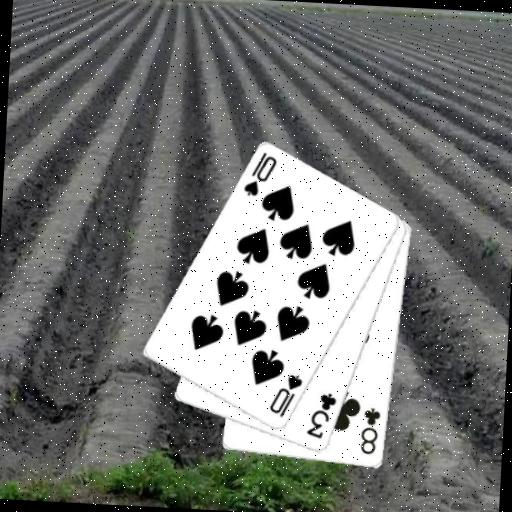10S: (240, 148, 280, 200), (266, 370, 305, 421)
3C: (304, 389, 339, 442)
8C: (357, 405, 383, 457)
